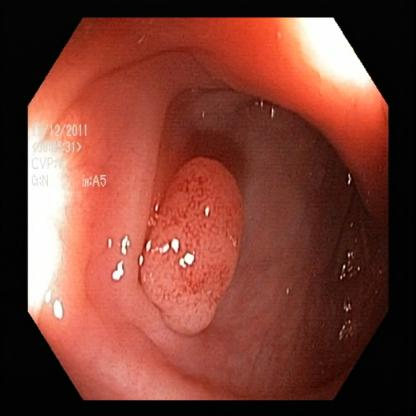Labels: (27, 121, 116, 216)
Polyps: (151, 170, 235, 329)
